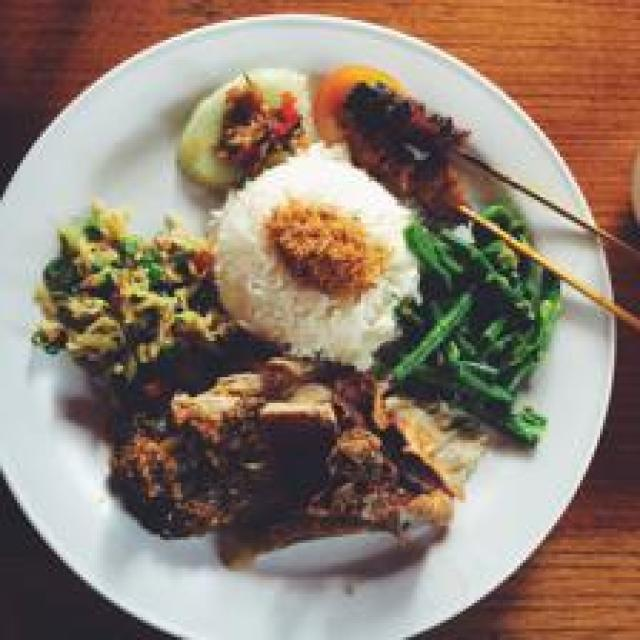Wet Waste: (206, 143, 419, 363)
